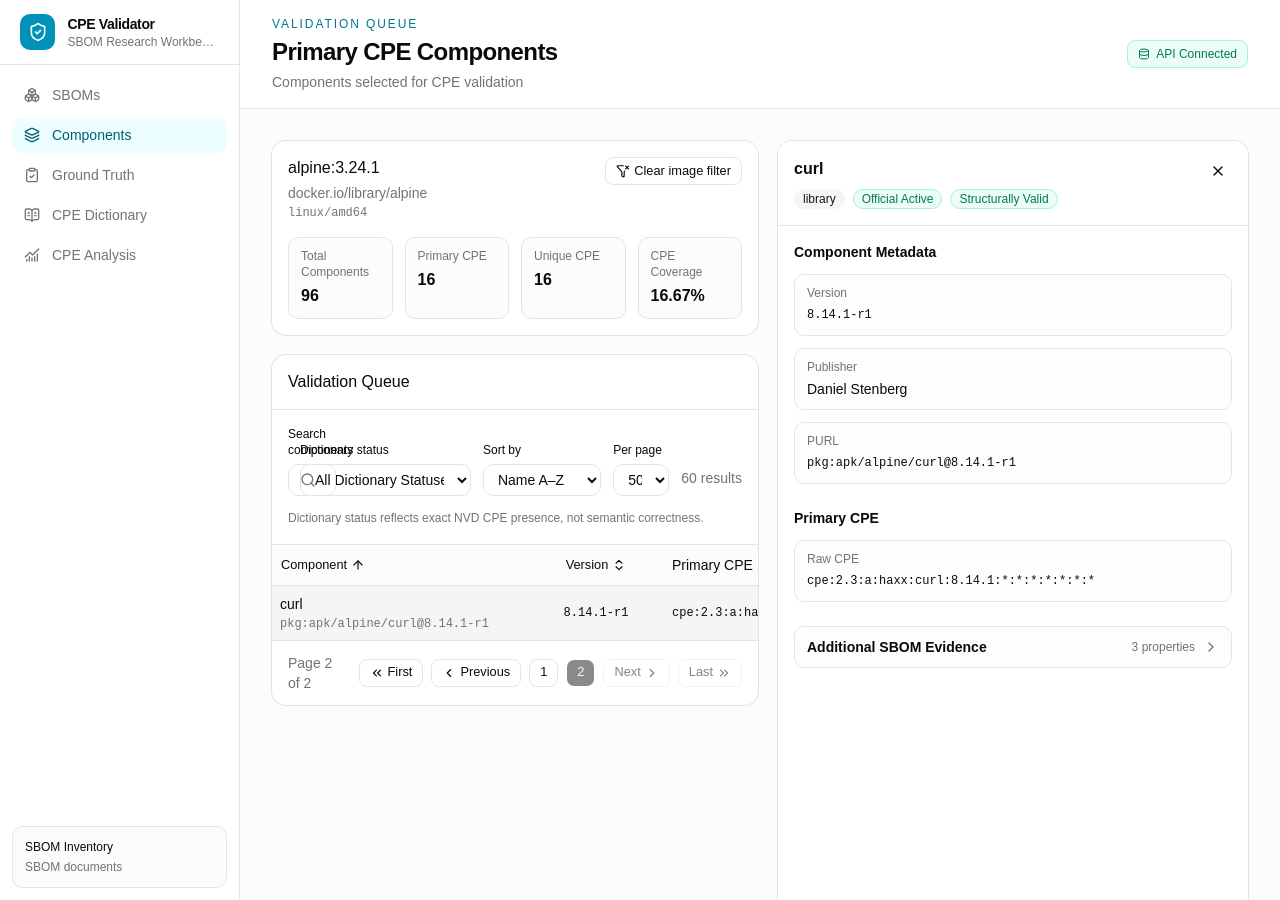
it: Component Detail panel › closes only component_id without reloading the list
The width and height of the screenshot is (1280, 900).
Click the button named "Close component details": (1218, 171) [1204,157,1232,185]
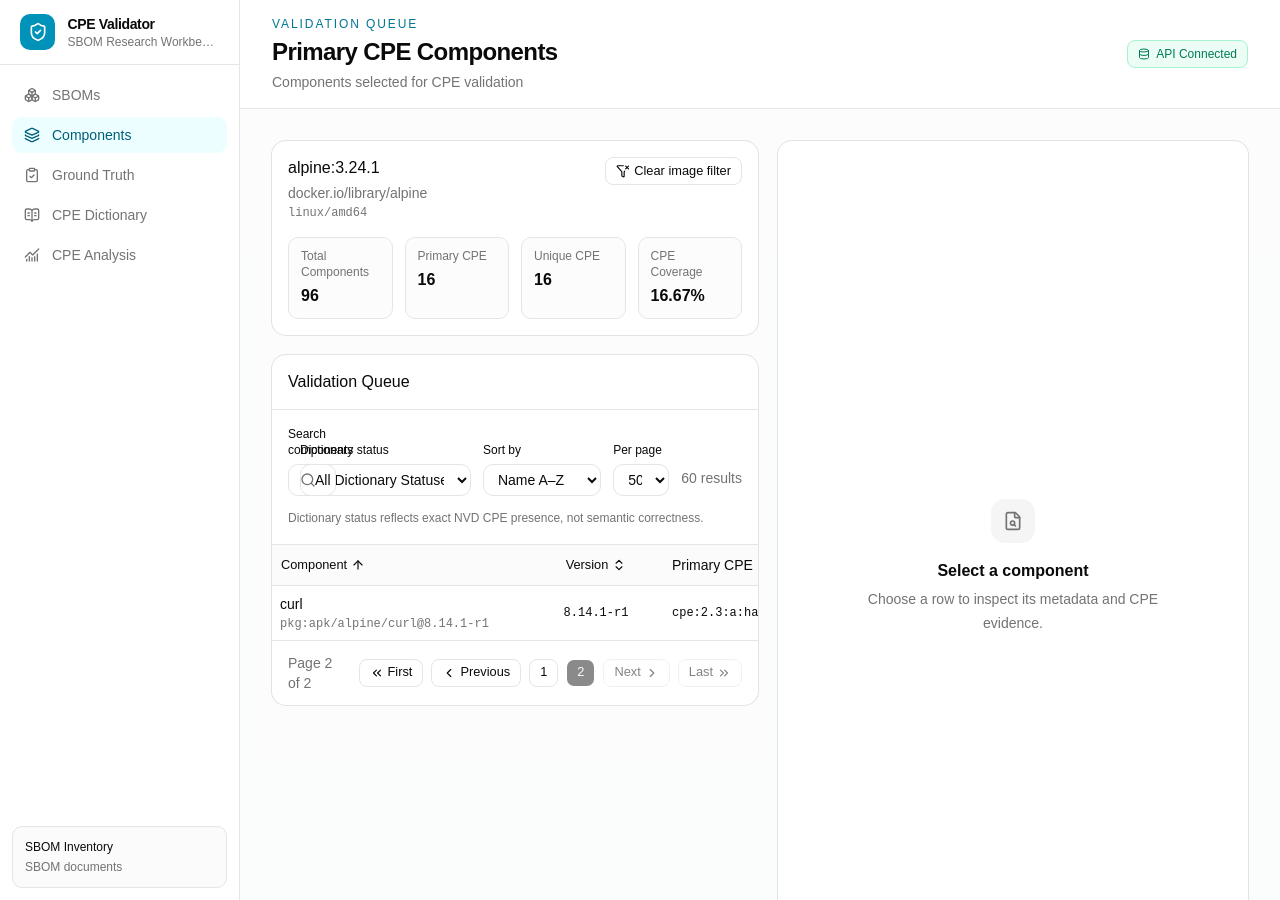
Expected: the text "curl" is shown, [280,596,303,612]
Expected: the heading "Select a component" is shown, [937,559,1089,583]
